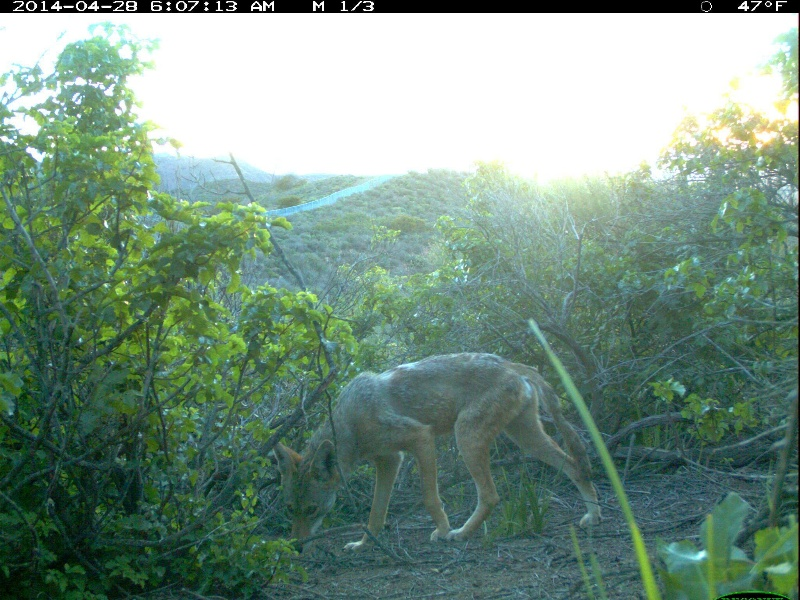coyote: (270, 346, 603, 558)
